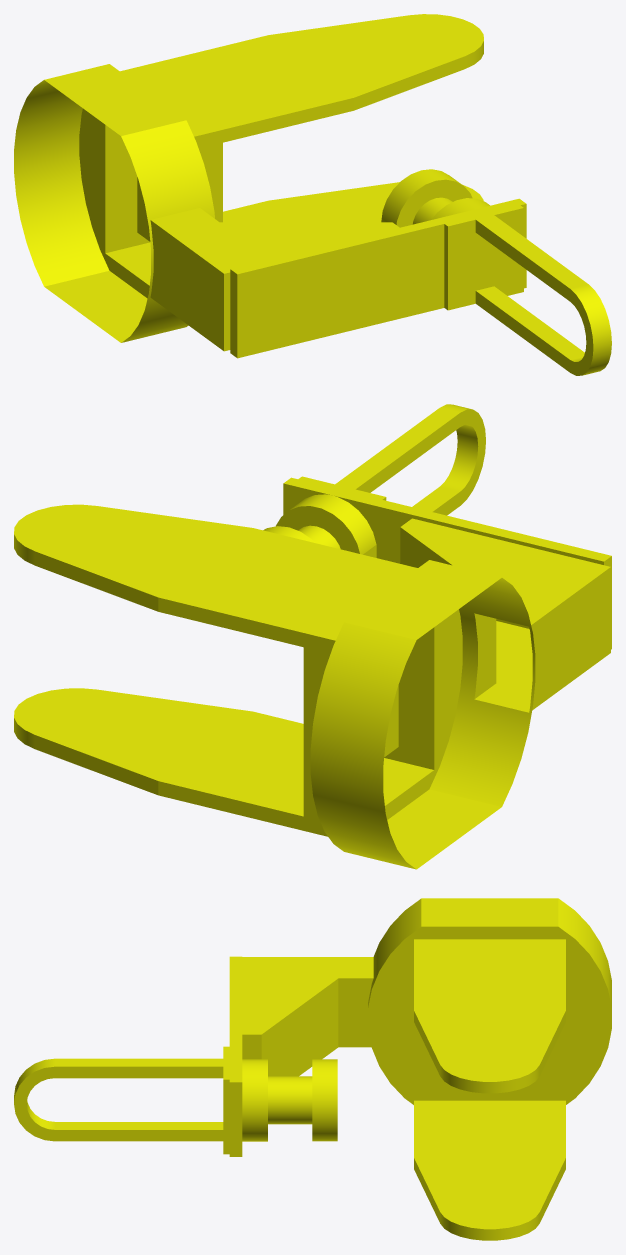
File: body_7.obj
The picture shows the model from 3 angles, top to bottom: view 1: azimuth 30°, elevation 25°; view 2: azimuth 150°, elevation 25°; view 3: azimuth 270°, elevation 25°; orthographic projection. The views are drawn at different scales.
Parts seen in each view (by area): view 1: Body_2; view 2: Body_2; view 3: Body_2.
Part boxes in pixels (x1=…): Body_2: x1=14, y1=14, x2=611, y2=375; Body_2: x1=14, y1=404, x2=611, y2=869; Body_2: x1=14, y1=898, x2=611, y2=1240.
Bounding box in the file's own units: 0.3187 × 0.16 × 0.4711.
